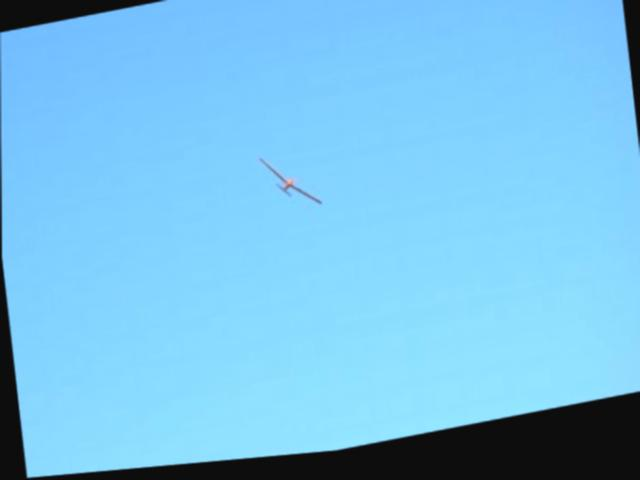iha: (261, 153, 321, 220)
